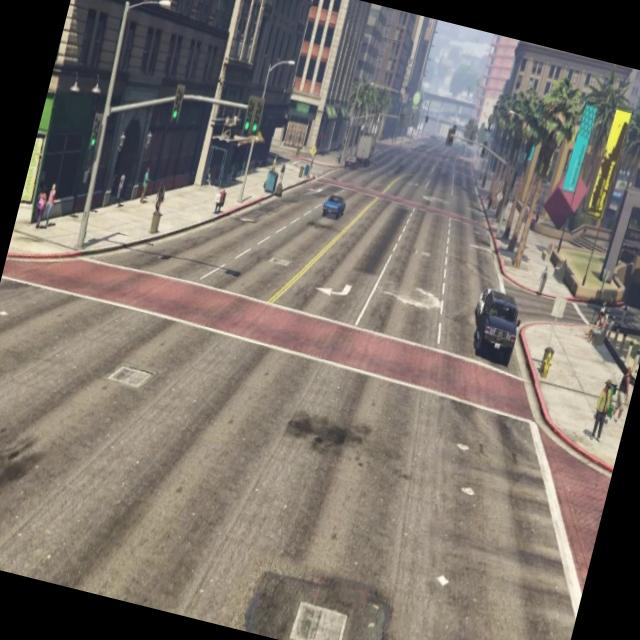Green-Signal: (231, 85, 272, 152), (76, 102, 108, 166), (162, 70, 193, 136)
